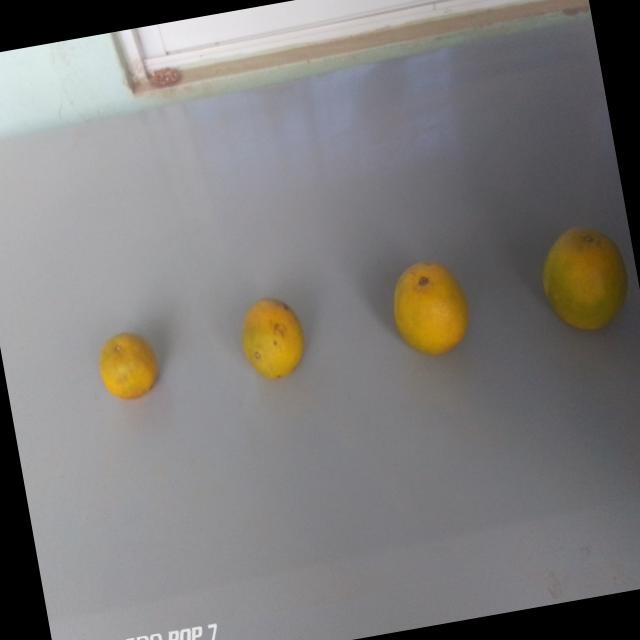agrume: (530, 212, 638, 343), (377, 245, 479, 369), (225, 291, 311, 392), (85, 323, 166, 417)
